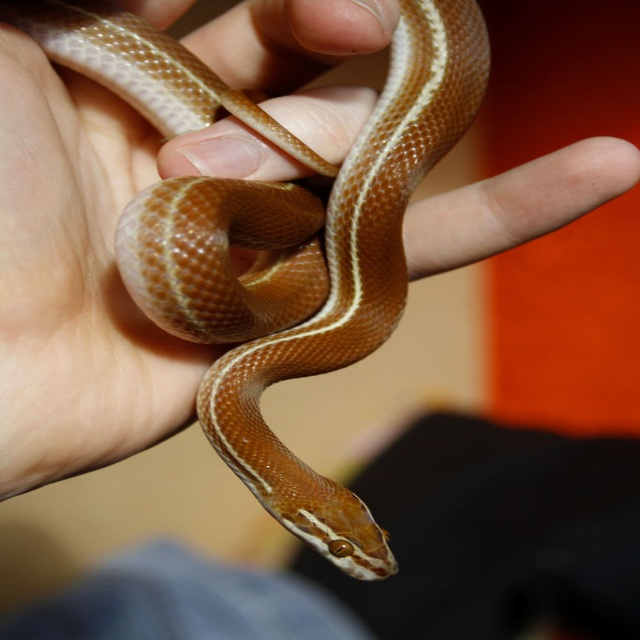Snake: (15, 0, 489, 581)
